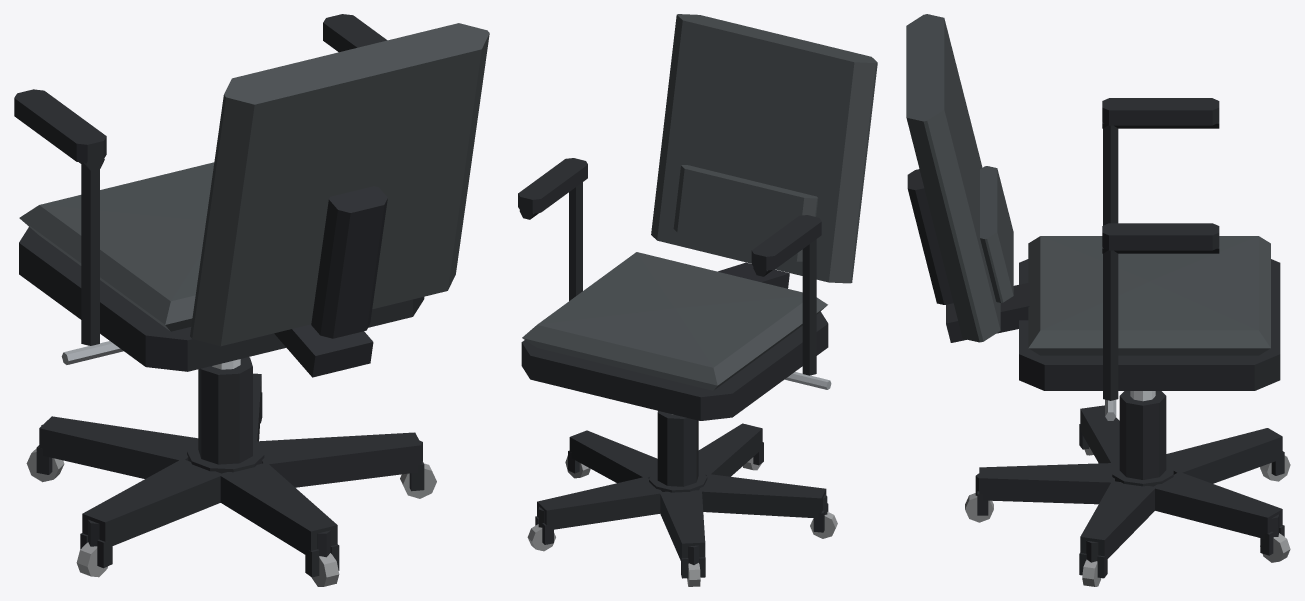
The model's file is SM_LPI_Office_ChairTask_01.fbx.
3 views of the same model, side by side, from view 1: azimuth 30°, elevation 25°; view 2: azimuth 150°, elevation 25°; view 3: azimuth 270°, elevation 25° (orthographic). The views are drawn at different scales.
Visible parts, largest first — view 1: SM_LPI_Office_ChairTask_01; view 2: SM_LPI_Office_ChairTask_01; view 3: SM_LPI_Office_ChairTask_01.
Boxes of the visible parts, <box> form: SM_LPI_Office_ChairTask_01: <box>14,14,489,586</box>; SM_LPI_Office_ChairTask_01: <box>518,14,877,586</box>; SM_LPI_Office_ChairTask_01: <box>906,14,1290,586</box>.
Size of the model in its own units: 0.62 by 0.9053 by 0.6906.
